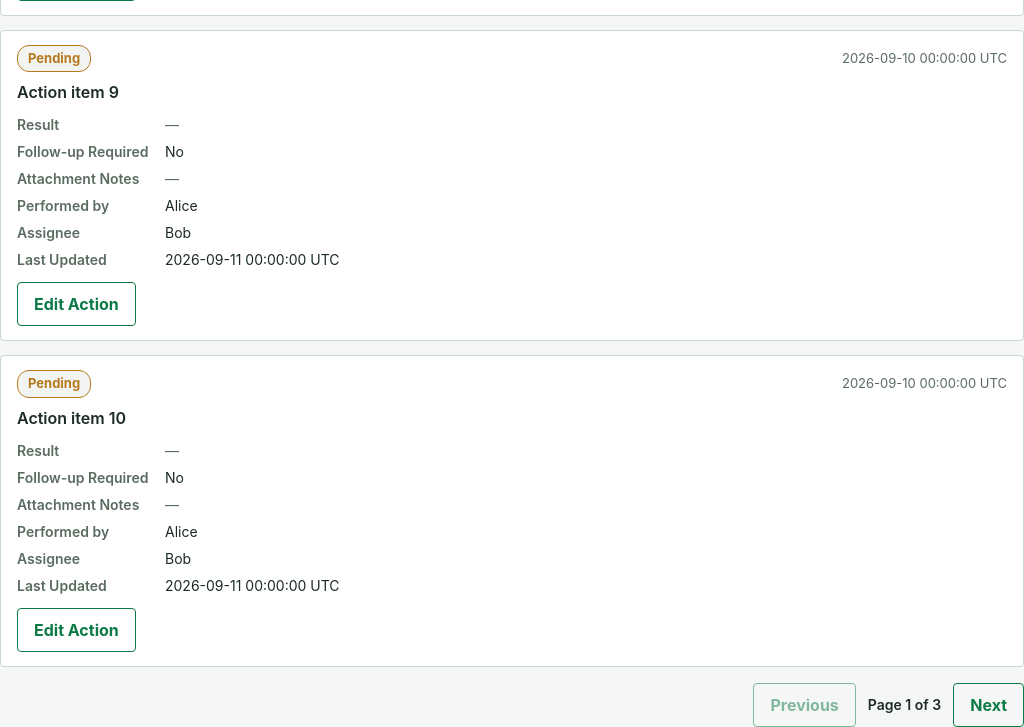
Scenario: UI-ACT-01 — Fixed-size pagination (AC-04, AC-21, FR-01) › AC-04 — walks 21 ordered Actions across three fixed-size-10 pages
(page scrolled)
Expected: the text "Page 1 of 3" is shown, [868,694,941,715]
Expected: the text "Action item 10" is shown, [17,408,126,428]
 Page 2.
Click the button "Next" at (989, 705), box [953,683,1023,726]
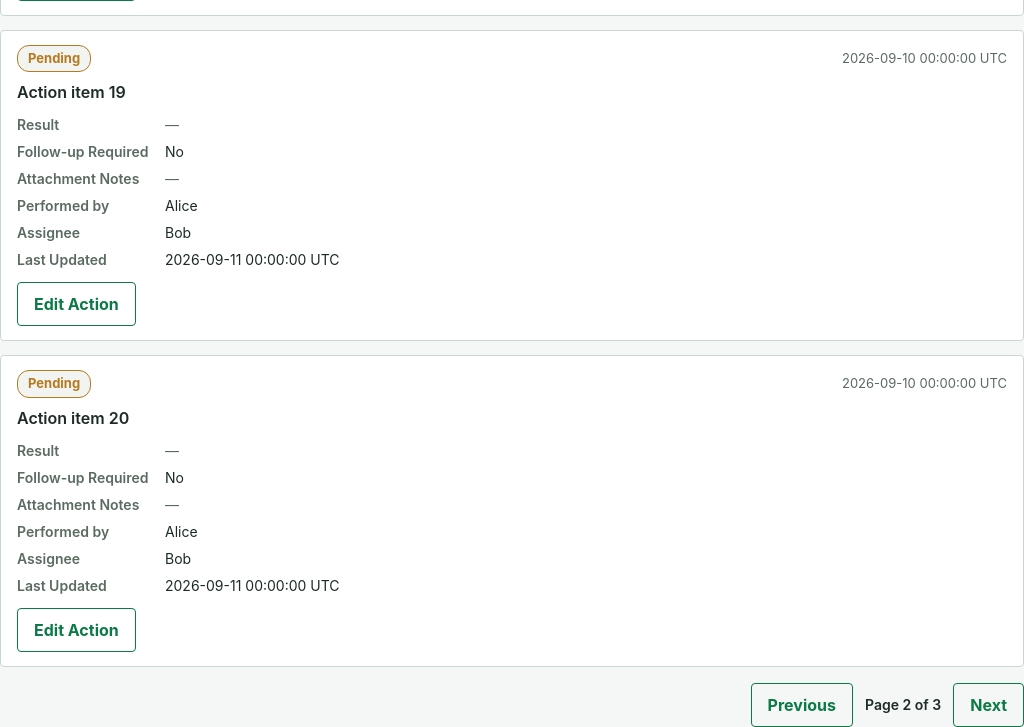
Expected: the text "Page 2 of 3" is shown, [865,694,941,715]
Expected: the text "Action item 20" is shown, [17,408,129,428]
Expected: the button "Previous" is enabled, [751,683,853,726]
Page 3 — last page boundary.
Click the button "Next" at (989, 705), box [953,683,1023,726]
(page scrolled)
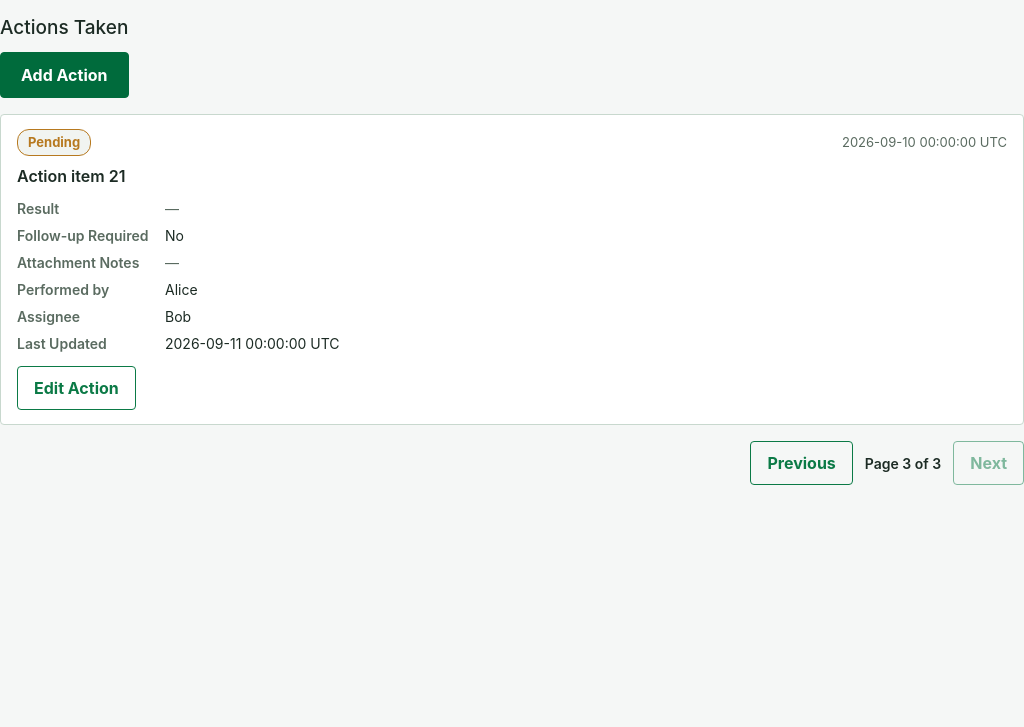
Expected: the text "Page 3 of 3" is shown, [865,453,941,474]
Expected: the number of list items is 1, [0,114,1023,425]
Expected: the text "Action item 21" is shown, [17,166,125,186]
